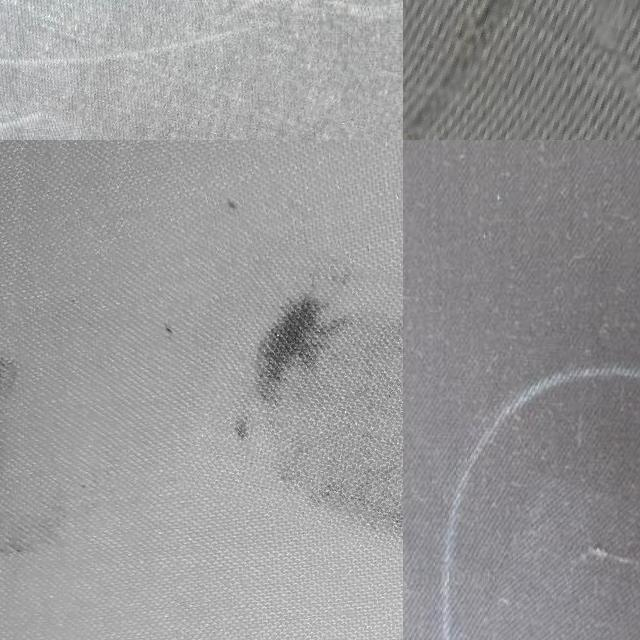Thread_other: (193, 253, 403, 556), (0, 338, 57, 573), (128, 302, 186, 382), (186, 185, 278, 233)
stains: (403, 0, 640, 140), (491, 492, 640, 640)
